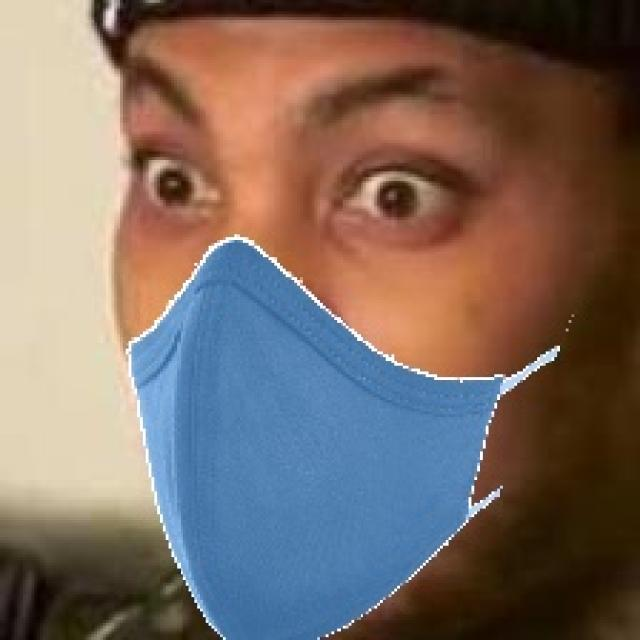mask: (90, 234, 535, 640)
